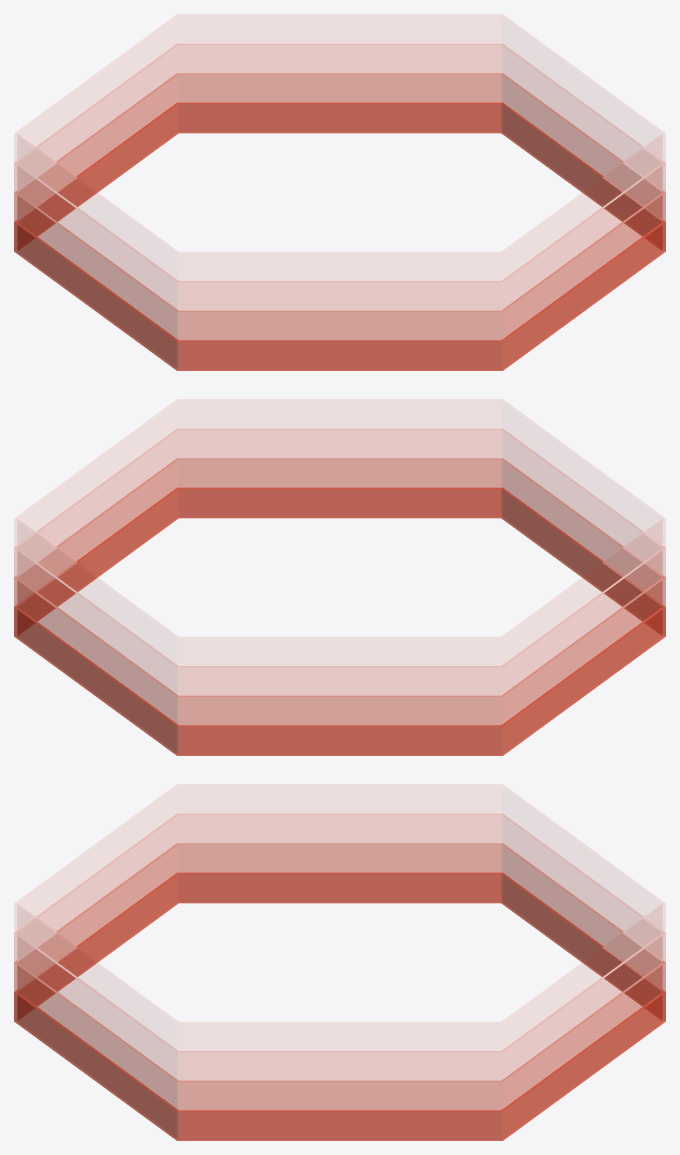
The model's file is red_hex_gradient.fbx.
3 renders of one model, top to bottom at view 1: azimuth 30°, elevation 25°; view 2: azimuth 150°, elevation 25°; view 3: azimuth 270°, elevation 25°, orthographic.
Parts seen in each view (by area): view 1: Cylinder, Cylinder.001, Cylinder.002, Cylinder.003; view 2: Cylinder, Cylinder.001, Cylinder.002, Cylinder.003; view 3: Cylinder, Cylinder.001, Cylinder.002, Cylinder.003.
Part boxes in pixels (bbox=[...]): Cylinder: bbox=[14, 102, 665, 370]; Cylinder.001: bbox=[14, 73, 665, 340]; Cylinder.002: bbox=[14, 44, 665, 311]; Cylinder.003: bbox=[17, 134, 662, 161]; Cylinder: bbox=[14, 487, 665, 755]; Cylinder.001: bbox=[14, 458, 665, 725]; Cylinder.002: bbox=[14, 429, 665, 696]; Cylinder.003: bbox=[17, 519, 662, 546]; Cylinder: bbox=[14, 872, 665, 1140]; Cylinder.001: bbox=[14, 843, 665, 1110]; Cylinder.002: bbox=[14, 814, 665, 1081]; Cylinder.003: bbox=[17, 904, 662, 931].
Bounding box in the file's own units: 173 × 40 × 200.
